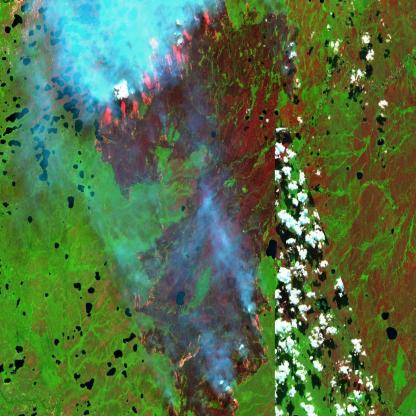fire: (84, 0, 277, 416)
